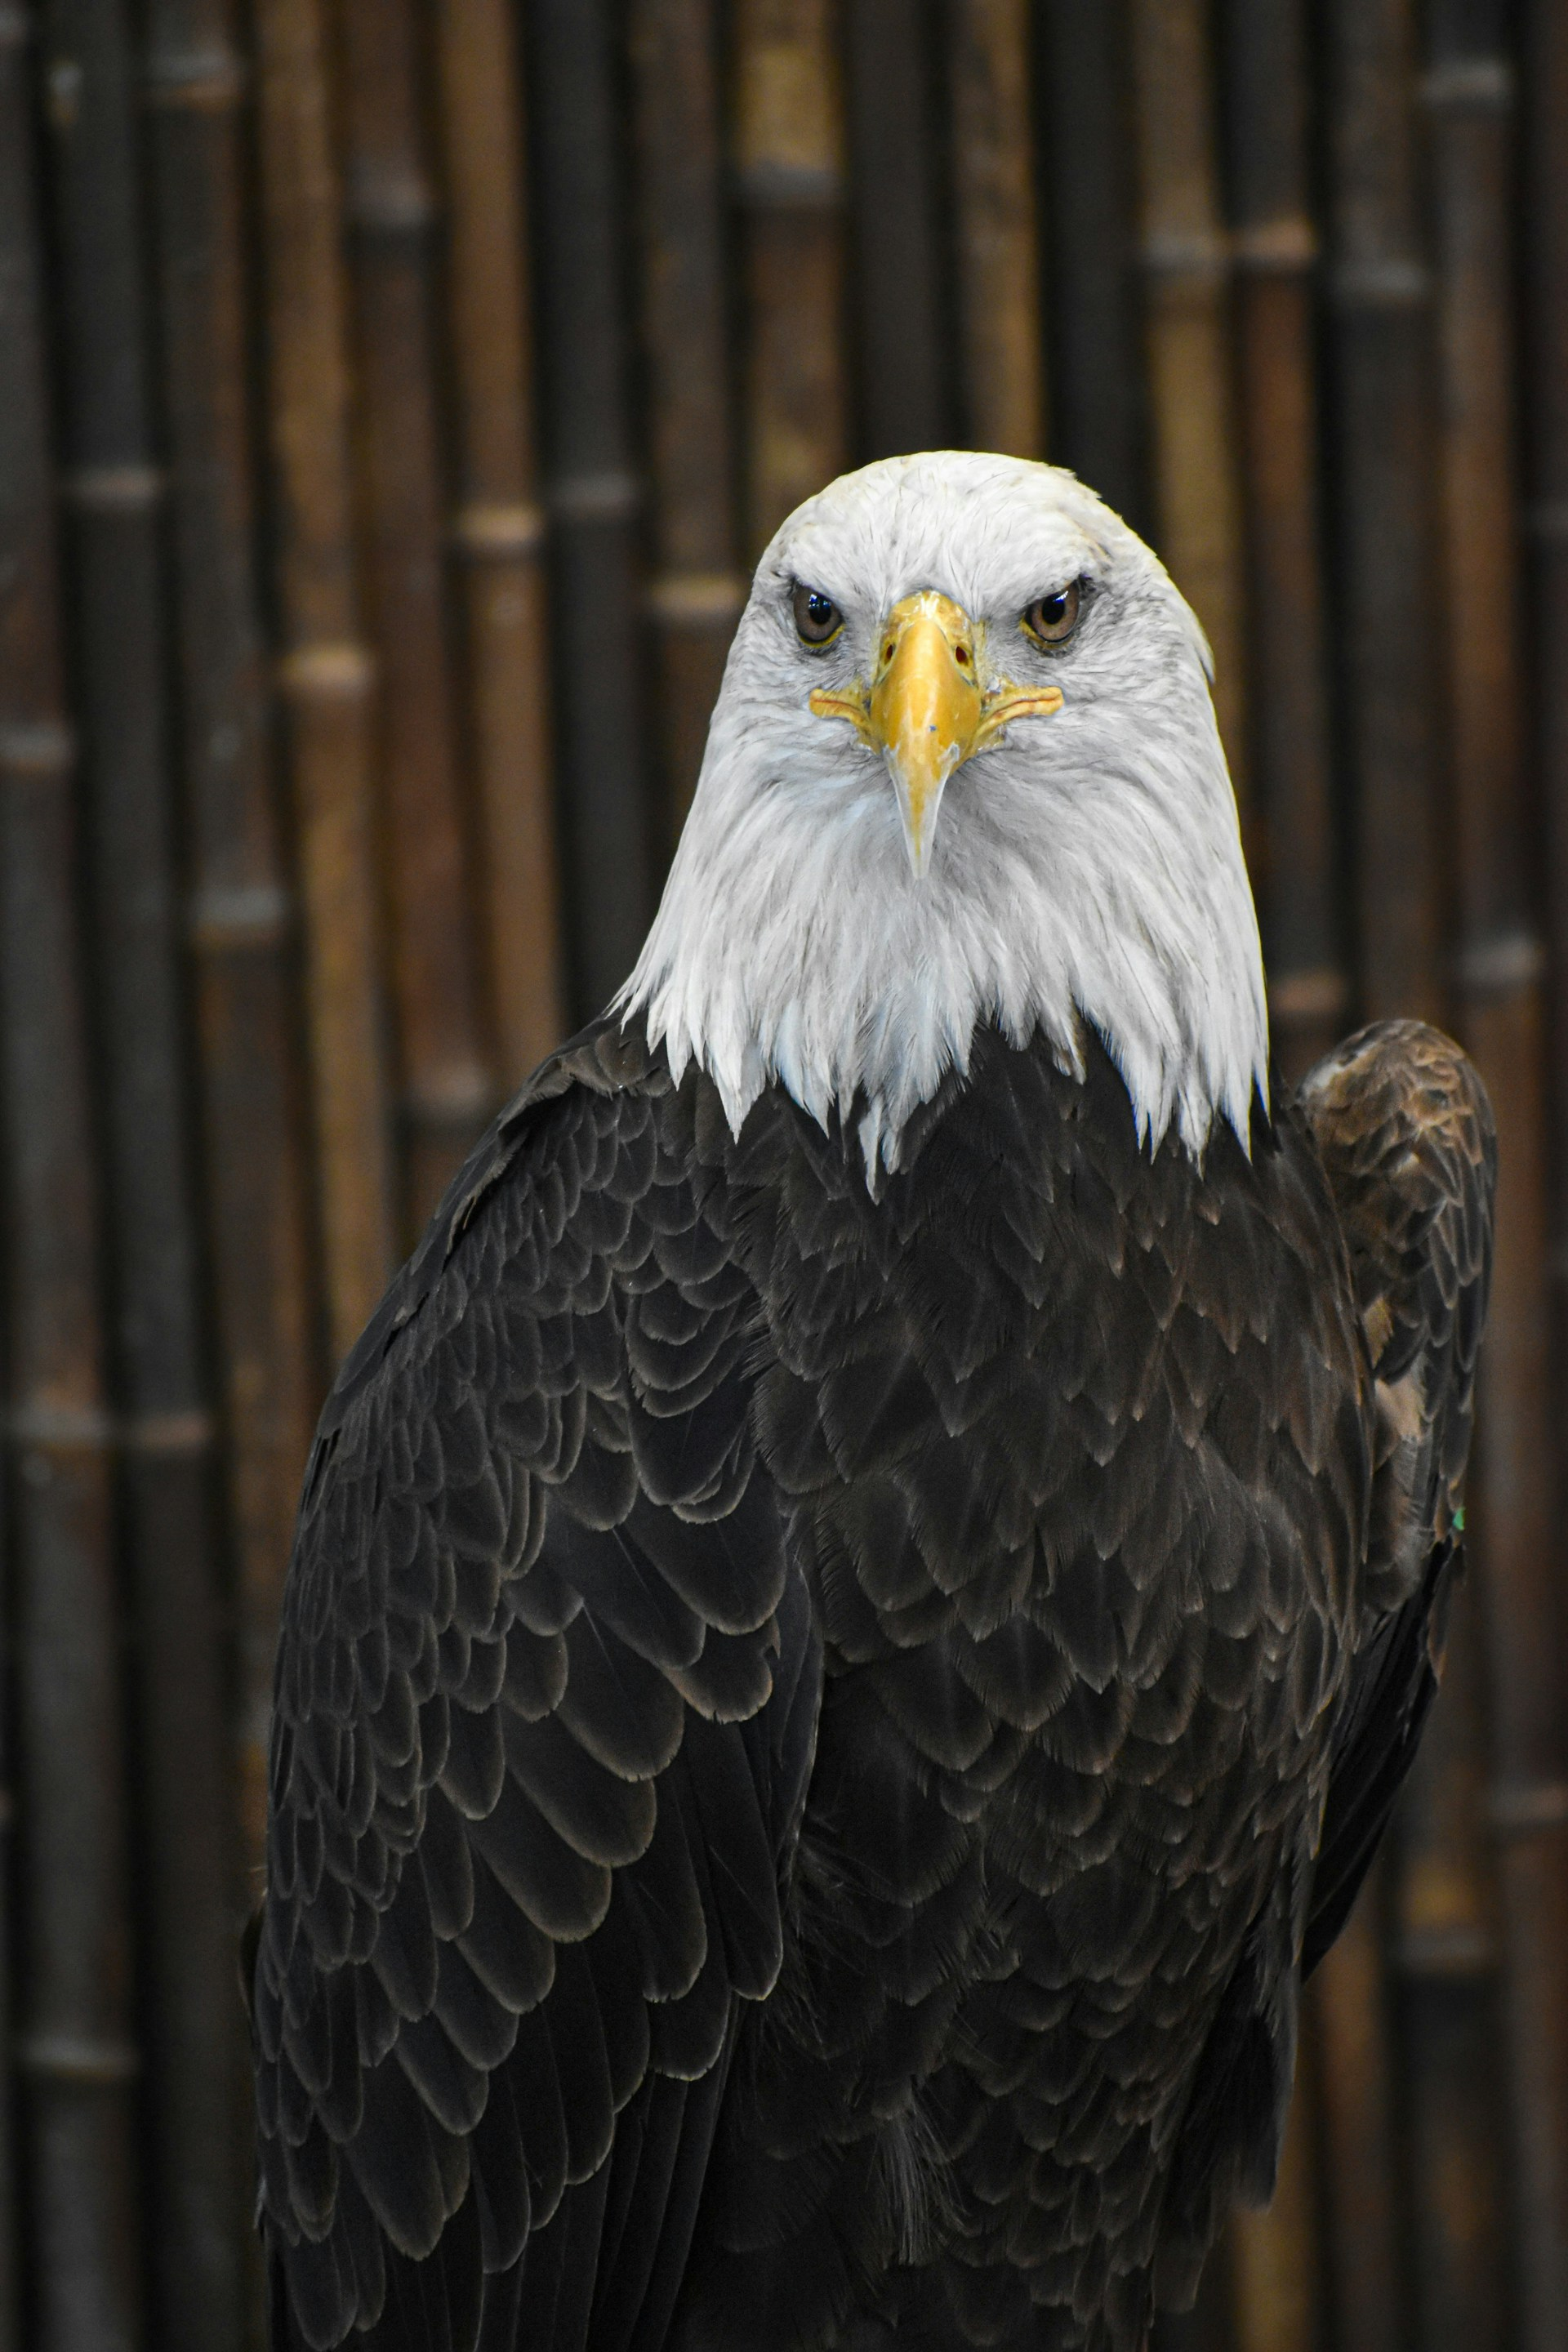eagle: (229, 430, 1543, 2352)
